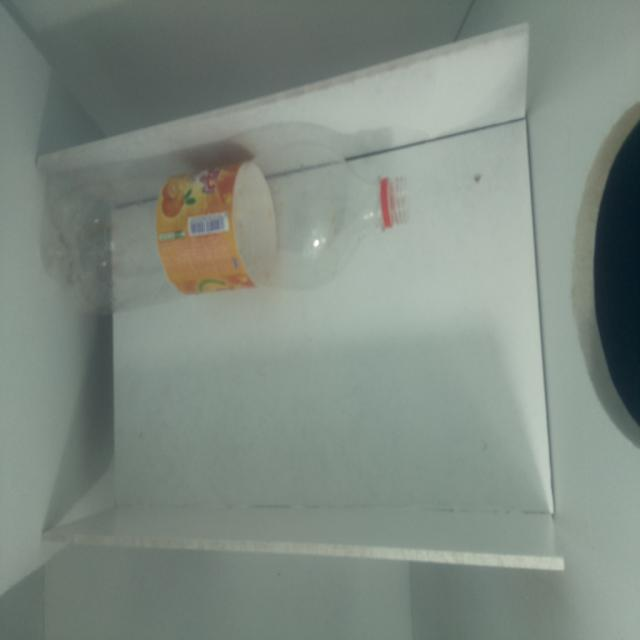Anorganik: (44, 146, 422, 328)
